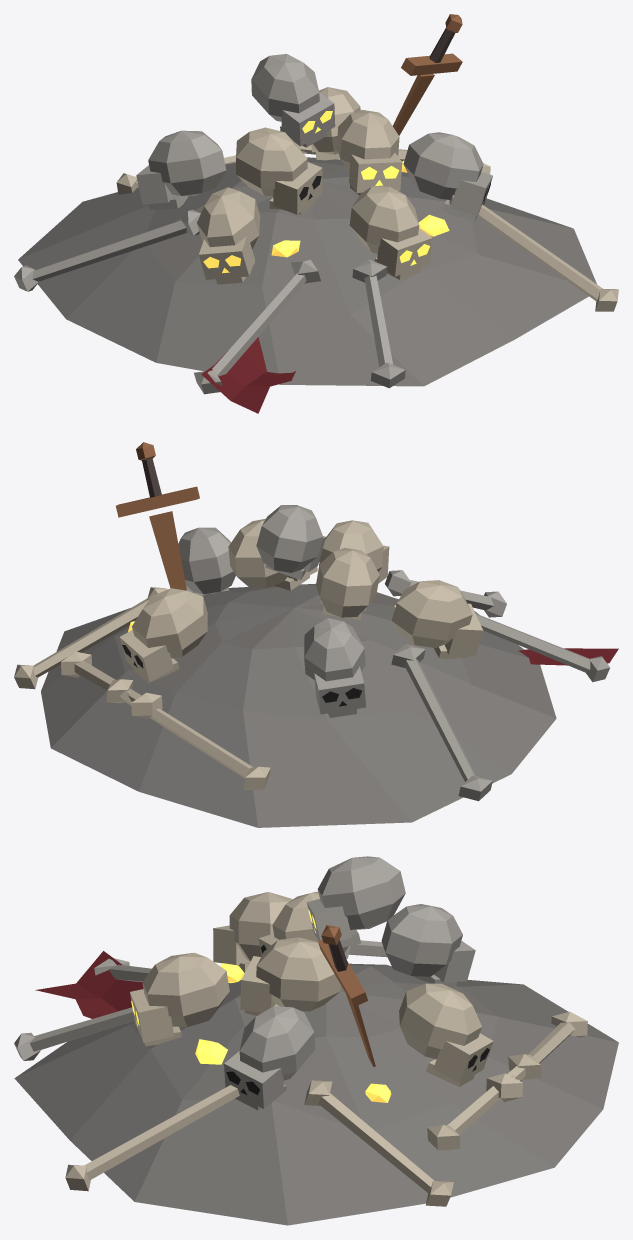
Rendered from bone-pile.glb.
The picture shows the model from 3 angles, top to bottom: view 1: azimuth 30°, elevation 25°; view 2: azimuth 150°, elevation 25°; view 3: azimuth 270°, elevation 25°; orthographic projection. The views are drawn at different scales.
Visible parts, largest first — view 1: ash_mound, skull_07, skull_02, skull_01, skull_08, skull_05, skull_03, skull_06, bone_04, cloth_tattered, bone_02, bone_01 (+3 smaller); view 2: ash_mound, skull_04, skull_03, skull_05, skull_08, skull_07, sword_rusted, skull_02, bone_04, bone_05, skull_06, bone_03 (+5 smaller); view 3: ash_mound, skull_04, skull_01, skull_02, skull_08, skull_06, skull_05, skull_03, bone_03, bone_01, cloth_tattered, bone_07 (+7 smaller).
Boxes of the visible parts, x1=… form: ash_mound: x1=18, y1=157, x2=596, y2=386; skull_07: x1=236, y1=127, x2=322, y2=214; skull_02: x1=403, y1=132, x2=492, y2=220; skull_01: x1=349, y1=186, x2=432, y2=279; skull_08: x1=251, y1=54, x2=335, y2=147; skull_05: x1=136, y1=130, x2=226, y2=209; skull_03: x1=197, y1=187, x2=260, y2=284; skull_06: x1=336, y1=110, x2=402, y2=195; bone_04: x1=14, y1=209, x2=200, y2=291; cloth_tattered: x1=201, y1=337, x2=295, y2=413; bone_02: x1=194, y1=259, x2=320, y2=394; bone_01: x1=449, y1=195, x2=618, y2=311; ash_mound: x1=41, y1=583, x2=556, y2=827; skull_04: x1=119, y1=588, x2=207, y2=682; skull_03: x1=391, y1=580, x2=483, y2=658; skull_05: x1=304, y1=618, x2=366, y2=717; skull_08: x1=256, y1=505, x2=325, y2=580; skull_07: x1=316, y1=547, x2=379, y2=620; sword_rusted: x1=116, y1=442, x2=199, y2=590; skull_02: x1=178, y1=527, x2=235, y2=595; bone_04: x1=391, y1=644, x2=492, y2=801; bone_05: x1=106, y1=679, x2=270, y2=789; skull_06: x1=228, y1=518, x2=317, y2=590; bone_03: x1=14, y1=587, x2=167, y2=689; ash_mound: x1=14, y1=963, x2=618, y2=1225; skull_04: x1=399, y1=983, x2=493, y2=1086; skull_01: x1=130, y1=952, x2=229, y2=1046; skull_02: x1=224, y1=1006, x2=315, y2=1110; skull_08: x1=306, y1=856, x2=405, y2=947; skull_06: x1=240, y1=937, x2=340, y2=1015; skull_05: x1=381, y1=904, x2=475, y2=985; skull_03: x1=213, y1=892, x2=292, y2=972; bone_03: x1=304, y1=1080, x2=453, y2=1206; bone_01: x1=65, y1=1085, x2=239, y2=1191; cloth_tattered: x1=35, y1=951, x2=143, y2=1018; bone_07: x1=427, y1=1054, x2=541, y2=1150.
Size of what is drawn, in the model's own units: 1.17 by 0.5154 by 1.15.
